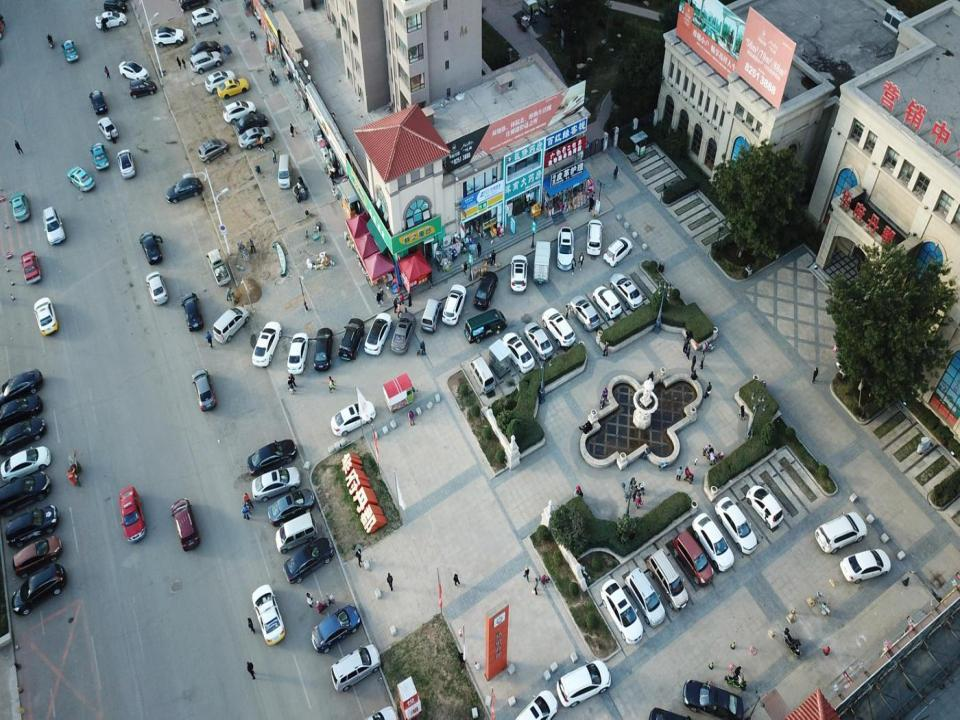car: (12, 562, 66, 617), (601, 578, 643, 645), (5, 503, 58, 551), (558, 660, 610, 708), (692, 513, 734, 572), (684, 678, 742, 719), (285, 535, 334, 583), (814, 510, 866, 555), (0, 469, 49, 516), (715, 497, 756, 553), (12, 536, 62, 581), (311, 606, 358, 652), (251, 585, 285, 646), (0, 444, 50, 484), (0, 413, 45, 456), (248, 438, 296, 478), (268, 489, 314, 529), (330, 398, 374, 439), (840, 548, 890, 584), (251, 468, 299, 504), (170, 497, 200, 554), (118, 488, 145, 544), (542, 308, 576, 351), (748, 486, 783, 527), (502, 332, 535, 375), (252, 322, 284, 366), (509, 691, 559, 719), (0, 368, 42, 398), (610, 273, 644, 310), (0, 393, 40, 424), (364, 312, 392, 354), (591, 284, 621, 322), (569, 296, 602, 330), (524, 323, 554, 360), (390, 312, 416, 354), (339, 318, 364, 360), (192, 371, 217, 411), (166, 178, 203, 205), (286, 332, 309, 375), (473, 271, 499, 309), (442, 286, 467, 324), (138, 230, 164, 266), (33, 298, 58, 335), (238, 125, 271, 151), (43, 207, 65, 244), (603, 237, 631, 266), (65, 166, 95, 193), (146, 271, 167, 309), (558, 225, 575, 271), (183, 292, 202, 332), (314, 327, 332, 369), (198, 139, 228, 164), (190, 51, 220, 75), (223, 100, 255, 122), (236, 112, 268, 134), (217, 76, 246, 100), (20, 252, 40, 286), (206, 70, 234, 94), (510, 256, 528, 293), (154, 26, 183, 48), (586, 218, 603, 255), (189, 40, 220, 60), (120, 60, 148, 82), (10, 193, 30, 223), (90, 142, 110, 172), (116, 149, 136, 179), (96, 11, 126, 31), (129, 80, 157, 100), (190, 9, 219, 28), (97, 116, 118, 141), (88, 90, 106, 116), (62, 39, 80, 62), (105, 0, 127, 13)
truck: (206, 248, 230, 287), (533, 241, 552, 280)
van: (646, 550, 688, 610), (330, 644, 378, 693), (627, 568, 663, 627), (275, 512, 317, 554), (465, 310, 507, 344), (213, 304, 248, 344), (470, 357, 496, 395), (420, 298, 440, 332), (278, 154, 294, 189)
